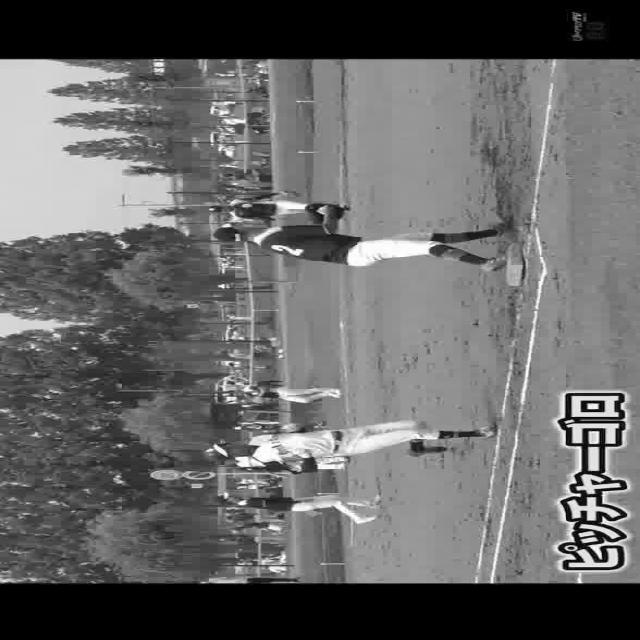base: (506, 238, 530, 288)
baseball: (313, 204, 332, 212)
baseball_glove: (297, 200, 345, 220)
shoe: (395, 441, 455, 457), (474, 416, 504, 444), (478, 251, 512, 273), (492, 211, 518, 233), (366, 487, 386, 508), (354, 514, 384, 524)
